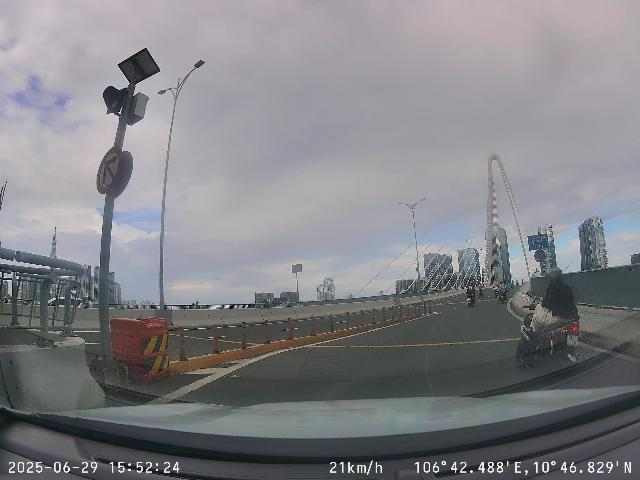123b-cam-re-phai: (97, 146, 122, 193)
